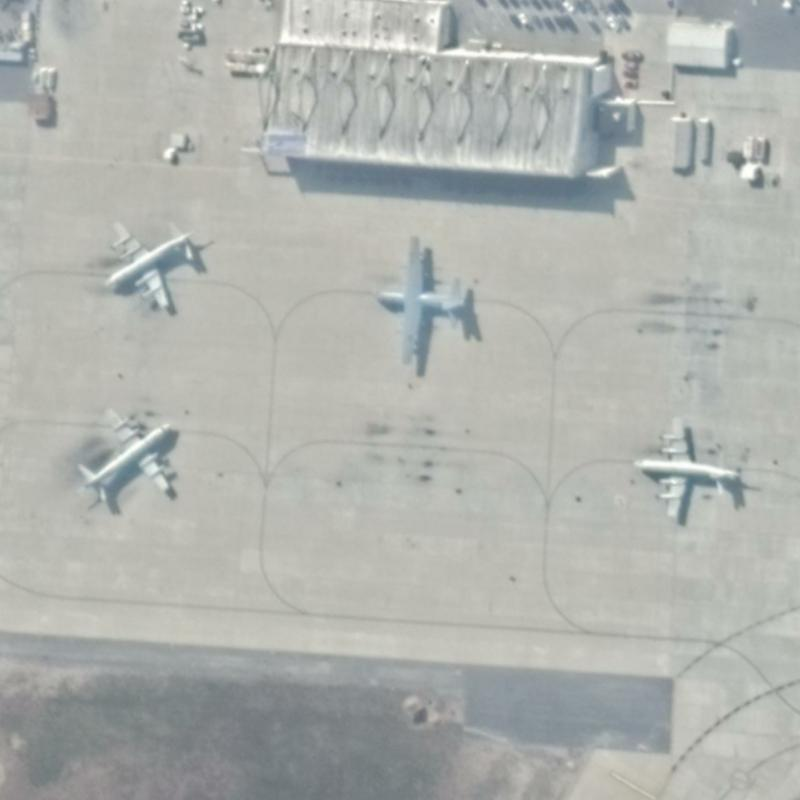A2: (370, 227, 475, 373)
A9: (72, 398, 185, 515), (631, 407, 741, 526), (96, 200, 205, 320)
